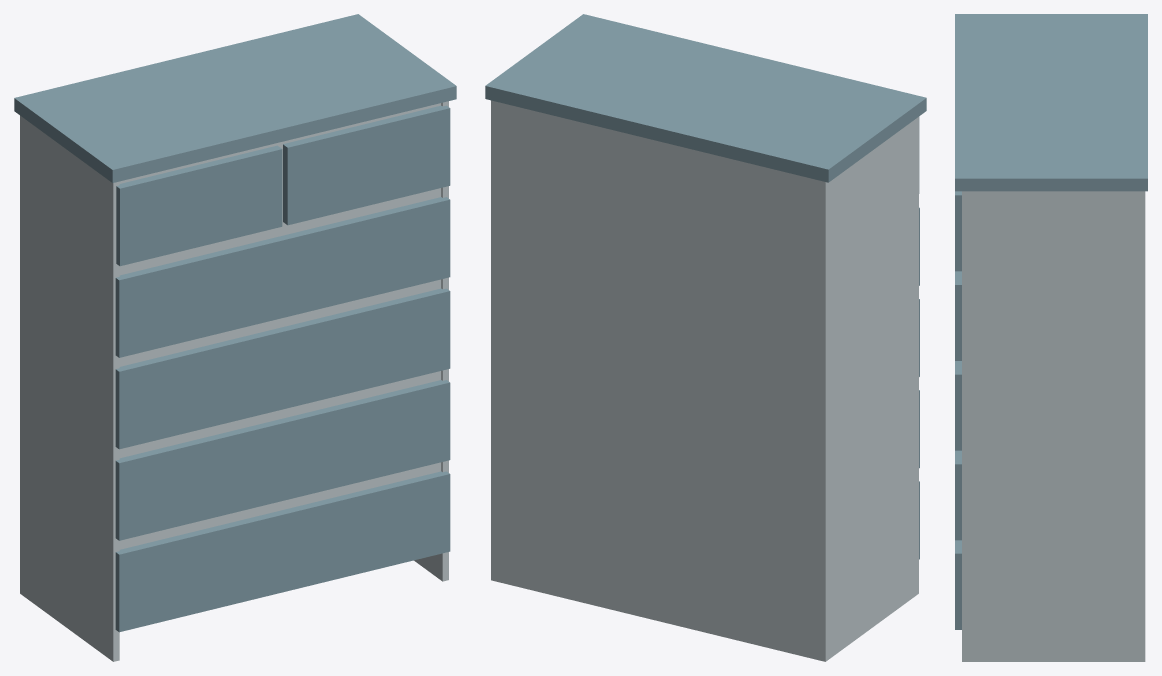
Rendered from shelf_032.glb.
The picture shows the model from 3 angles, left to right: view 1: azimuth 30°, elevation 25°; view 2: azimuth 150°, elevation 25°; view 3: azimuth 270°, elevation 25°; orthographic projection. The views are drawn at different scales.
Parts seen in each view (by area): view 1: shelf_032; view 2: shelf_032; view 3: shelf_032.
Boxes of the visible parts, x1=… form: shelf_032: x1=14, y1=14, x2=456, y2=661; shelf_032: x1=485, y1=14, x2=926, y2=661; shelf_032: x1=955, y1=14, x2=1147, y2=661.
Size of the model in its own units: 0.6285 by 0.8648 by 0.3114.
Materials: 1 (1 with a texture image).
